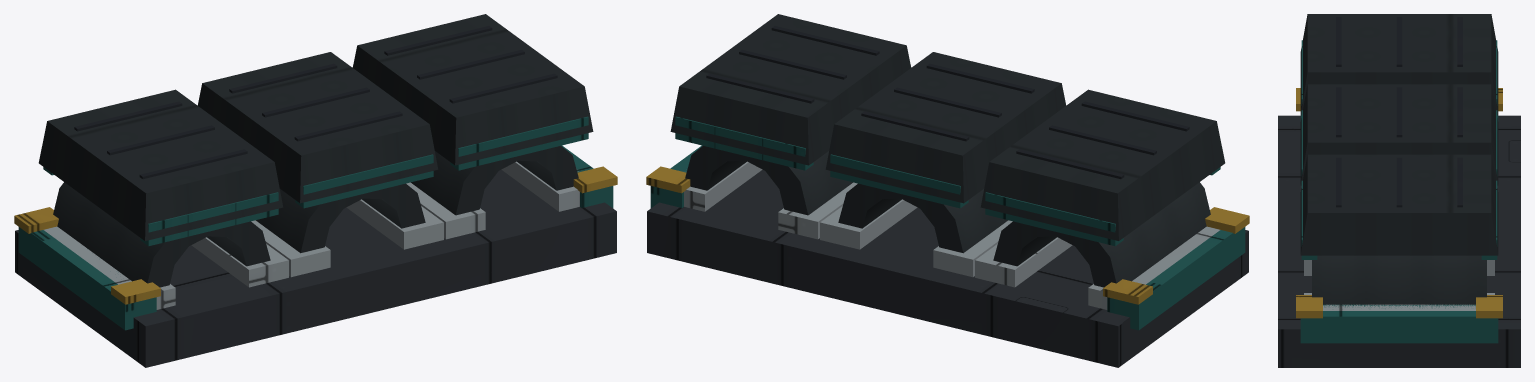
File: cargo-docking-bumper_lod2.glb
The picture shows the model from 3 angles, left to right: view 1: azimuth 30°, elevation 25°; view 2: azimuth 150°, elevation 25°; view 3: azimuth 270°, elevation 25°; orthographic projection. The views are drawn at different scales.
Parts seen in each view (by area): view 1: LOD2_Ceramic_rubber, LOD2_Armor, LOD2_Hull, LOD2_BrushedMetal, LOD2_MechanicalDark, LOD2_Livery; view 2: LOD2_Ceramic_rubber, LOD2_Armor, LOD2_Hull, LOD2_BrushedMetal, LOD2_MechanicalDark, LOD2_Livery; view 3: LOD2_Ceramic_rubber, LOD2_Armor, LOD2_Hull, LOD2_MechanicalDark, LOD2_Livery, LOD2_BrushedMetal.
Boxes of the visible parts, x1,y1,x2,y2 form: LOD2_Ceramic_rubber: (38, 14, 593, 287); LOD2_Armor: (15, 169, 616, 367); LOD2_Hull: (18, 116, 613, 330); LOD2_BrushedMetal: (44, 161, 579, 309); LOD2_MechanicalDark: (74, 26, 557, 179); LOD2_Livery: (14, 166, 617, 304); LOD2_Ceramic_rubber: (670, 14, 1225, 287); LOD2_Armor: (647, 169, 1248, 367); LOD2_Hull: (650, 116, 1245, 330); LOD2_BrushedMetal: (684, 161, 1219, 309); LOD2_MechanicalDark: (706, 26, 1189, 179); LOD2_Livery: (646, 166, 1249, 304); LOD2_Ceramic_rubber: (1300, 14, 1498, 304); LOD2_Armor: (1278, 115, 1520, 367); LOD2_Hull: (1300, 40, 1498, 343); LOD2_MechanicalDark: (1336, 17, 1462, 207); LOD2_Livery: (1296, 88, 1502, 318); LOD2_BrushedMetal: (1304, 260, 1494, 310).
Bounding box in the file's own units: 2.35 × 0.736 × 1.08.
Materials: 6 (6 with a texture image).
